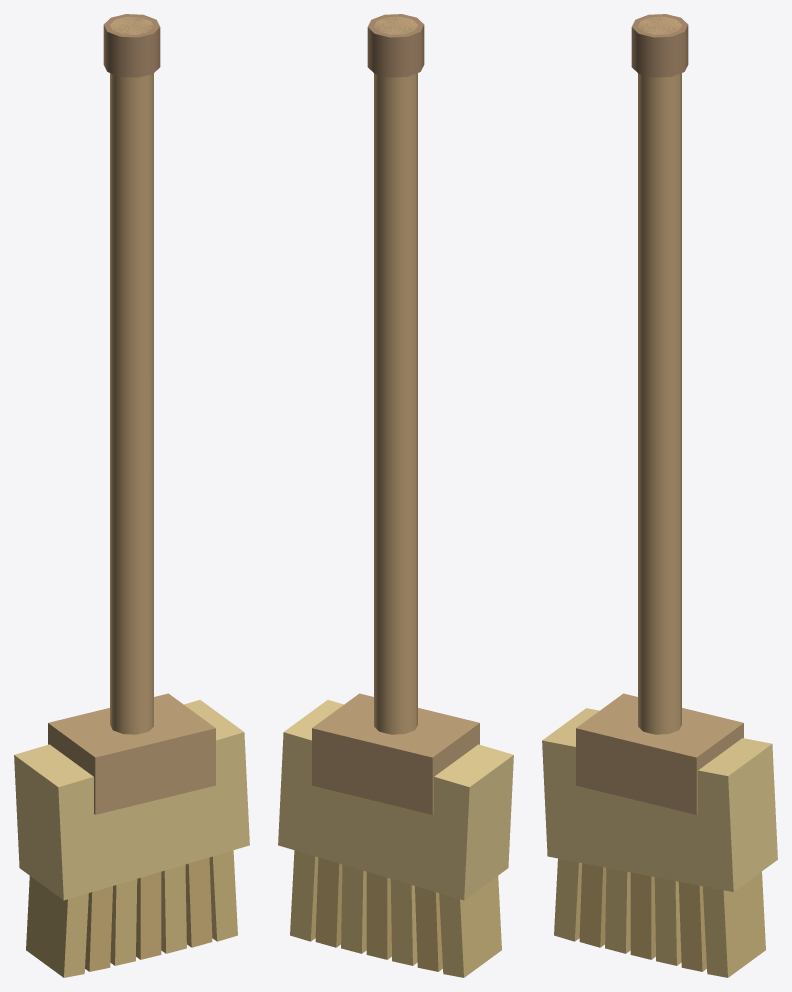
File: broom.glb
3 renders of one model, left to right at view 1: azimuth 30°, elevation 25°; view 2: azimuth 150°, elevation 25°; view 3: azimuth 330°, elevation 25°, orthographic.
Visible parts, largest first — view 1: handle, head, collar, bristle_0, handle_cap, bristle_6, bristle_5, bristle_4, bristle_3, bristle_2, bristle_1; view 2: handle, head, collar, bristle_0, handle_cap, bristle_6, bristle_5, bristle_4, bristle_3, bristle_2, bristle_1; view 3: handle, head, collar, bristle_6, handle_cap, bristle_5, bristle_4, bristle_3, bristle_2, bristle_1, bristle_0.
Part boxes in pixels (x1,y1,x2,y2): handle: (110, 16, 153, 734); head: (14, 700, 249, 900); collar: (48, 693, 215, 814); bristle_0: (26, 876, 88, 977); handle_cap: (103, 14, 160, 77); bristle_6: (209, 850, 237, 941); bristle_5: (185, 857, 212, 947); bristle_4: (161, 864, 186, 953); bristle_3: (136, 872, 161, 959); bristle_2: (110, 879, 137, 965); bristle_1: (85, 886, 112, 971); handle: (374, 16, 417, 734); head: (278, 700, 513, 900); collar: (312, 693, 479, 814); bristle_0: (439, 876, 501, 977); handle_cap: (367, 14, 424, 77); bristle_6: (290, 850, 318, 941); bristle_5: (315, 857, 342, 947); bristle_4: (341, 864, 366, 953); bristle_3: (366, 872, 391, 959); bristle_2: (390, 879, 417, 965); bristle_1: (415, 886, 442, 971); handle: (638, 16, 681, 734); head: (542, 708, 777, 891); collar: (576, 693, 743, 814); bristle_6: (702, 871, 765, 977); handle_cap: (631, 14, 688, 77); bristle_5: (678, 881, 706, 971); bristle_4: (654, 877, 681, 965); bristle_3: (630, 872, 655, 959); bristle_2: (605, 867, 630, 953); bristle_1: (579, 863, 606, 947); bristle_0: (554, 858, 582, 941).
Size of the model in its own units: 0.3496 by 1.6 by 0.15.
